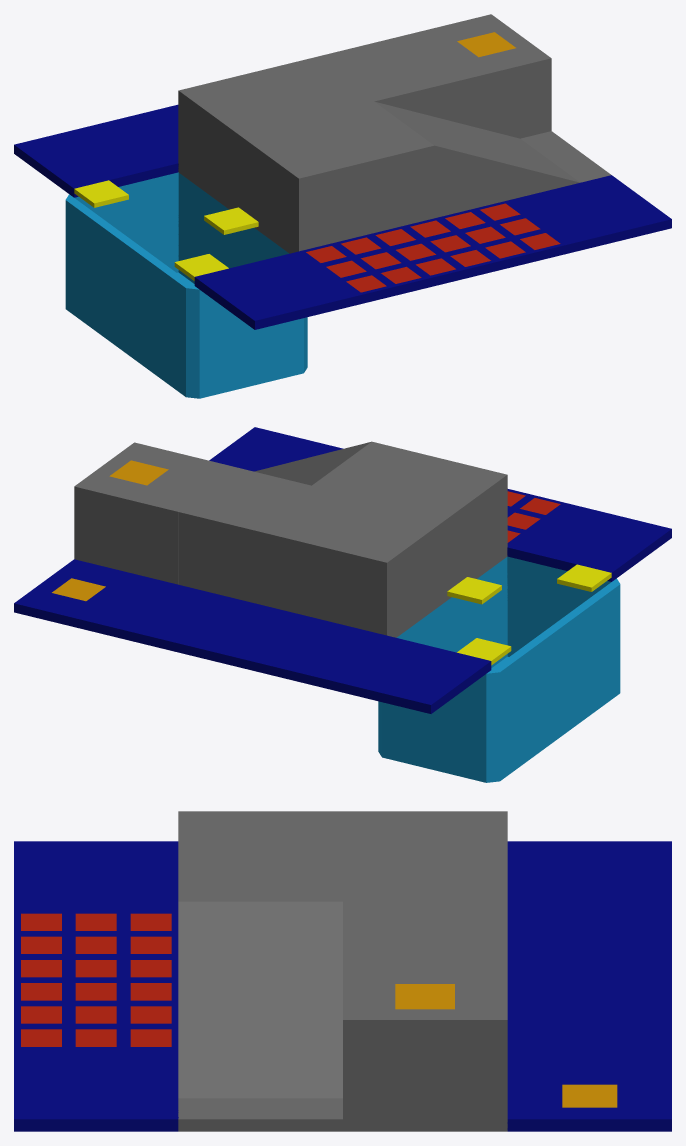
The model's file is Level001V2Joined.fbx.
3 views of the same model, one above another, from view 1: azimuth 30°, elevation 25°; view 2: azimuth 150°, elevation 25°; view 3: azimuth 270°, elevation 25° (orthographic). The views are drawn at different scales.
Parts seen in each view (by area): view 1: Platform 0.25x2x2.002; view 2: Platform 0.25x2x2.002; view 3: Platform 0.25x2x2.002.
Boxes of the visible parts, left/top/right/bottom form: Platform 0.25x2x2.002: left=14, top=14, right=671, bottom=398; Platform 0.25x2x2.002: left=14, top=427, right=671, bottom=782; Platform 0.25x2x2.002: left=14, top=811, right=671, bottom=1131.
Size of the model in its own units: 24.5 by 10.5 by 24.
